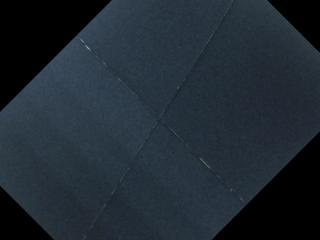crack: (81, 0, 238, 240), (76, 37, 248, 208)
